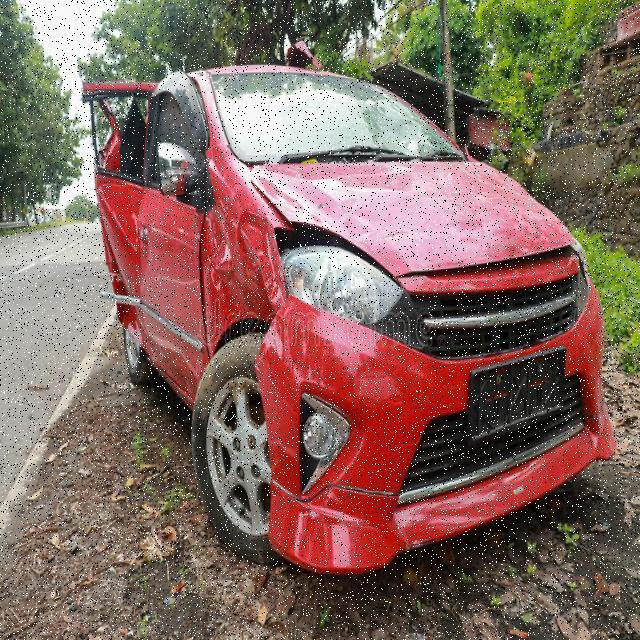bonnet-dent: (281, 155, 589, 275)
doorouter-dent: (81, 80, 152, 323)
fender-dent: (196, 164, 280, 358)
front-bumper-dent: (251, 300, 579, 557)
